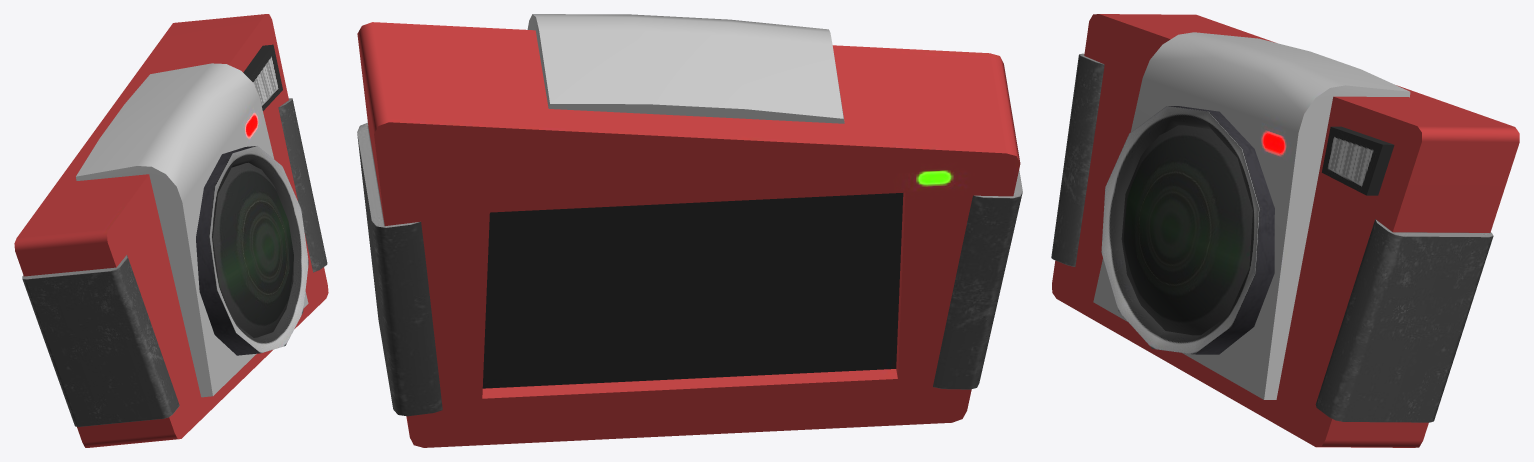
Rendered from camara.gltf.
The picture shows the model from 3 angles, left to right: view 1: azimuth 30°, elevation 25°; view 2: azimuth 150°, elevation 25°; view 3: azimuth 270°, elevation 25°; orthographic projection. The views are drawn at different scales.
Visible parts, largest first — view 1: CameraPointShoot_lambert1_0; view 2: CameraPointShoot_lambert1_0; view 3: CameraPointShoot_lambert1_0.
Boxes of the visible parts, x1=… form: CameraPointShoot_lambert1_0: x1=14, y1=14, x2=328, y2=447; CameraPointShoot_lambert1_0: x1=357, y1=14, x2=1022, y2=447; CameraPointShoot_lambert1_0: x1=1051, y1=14, x2=1519, y2=447.
Size of the model in its own units: 3.91 by 2.83 by 3.52.
1 material, 1 textured.
